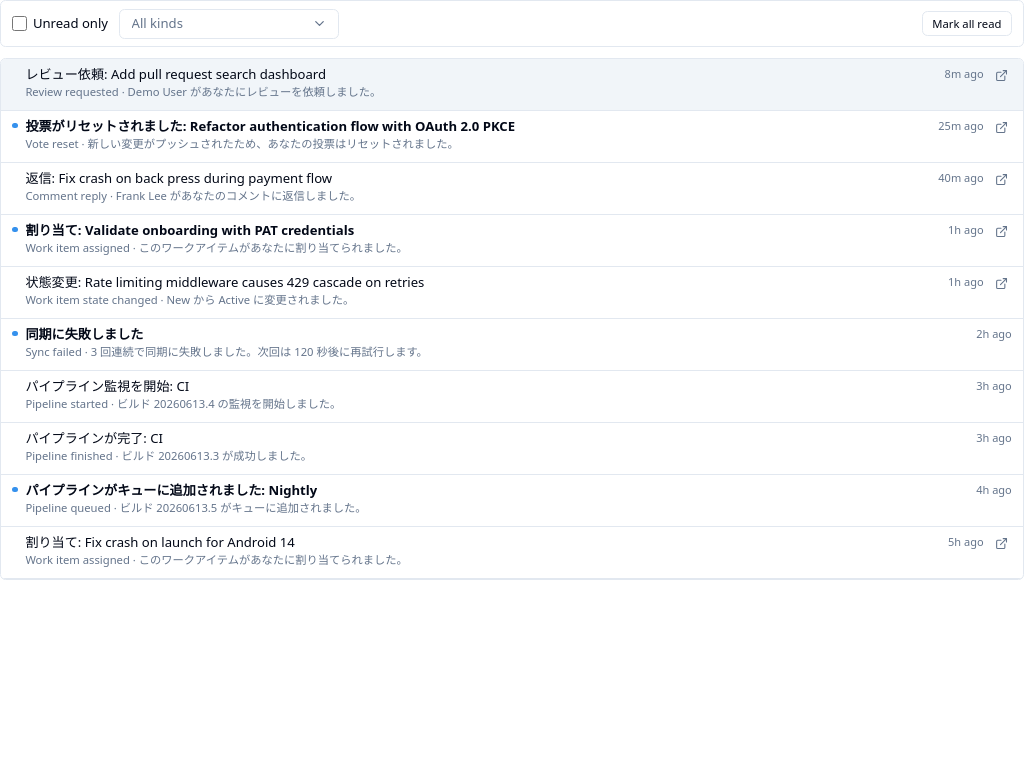
Scenario: NotificationsView › marks the selected row read with r without leaving the view
Click the checkbox labelled "Unread only" at (20, 24), box [12,16,27,31]
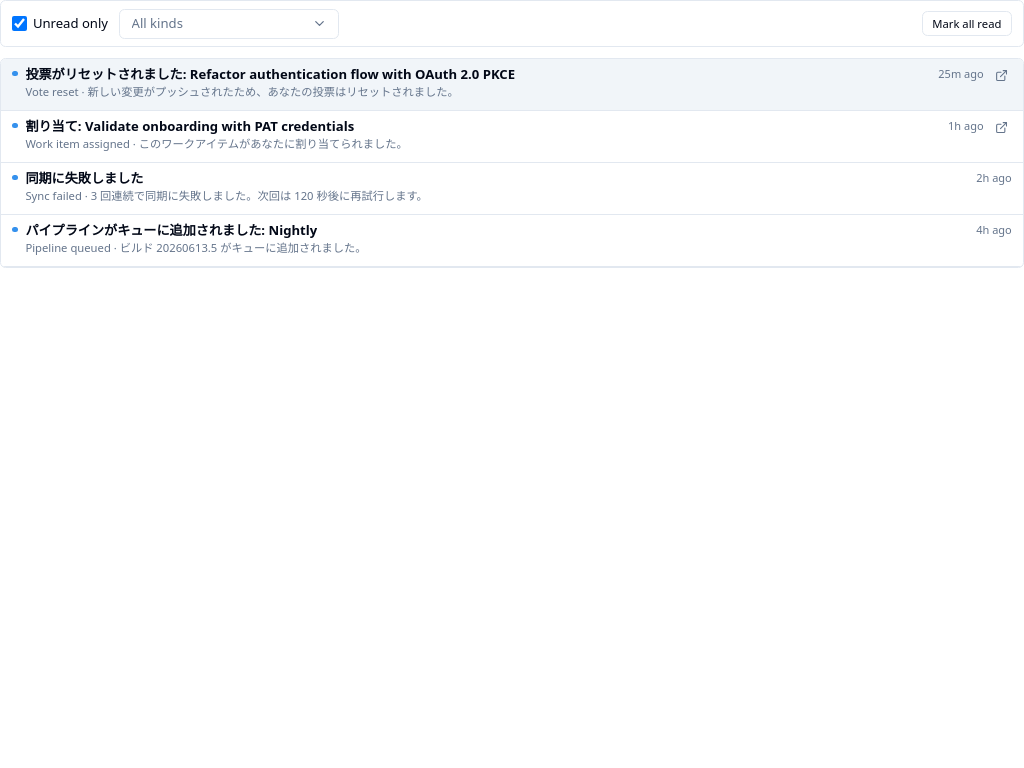
Press r in the 1st row, box [1,59,1023,111]
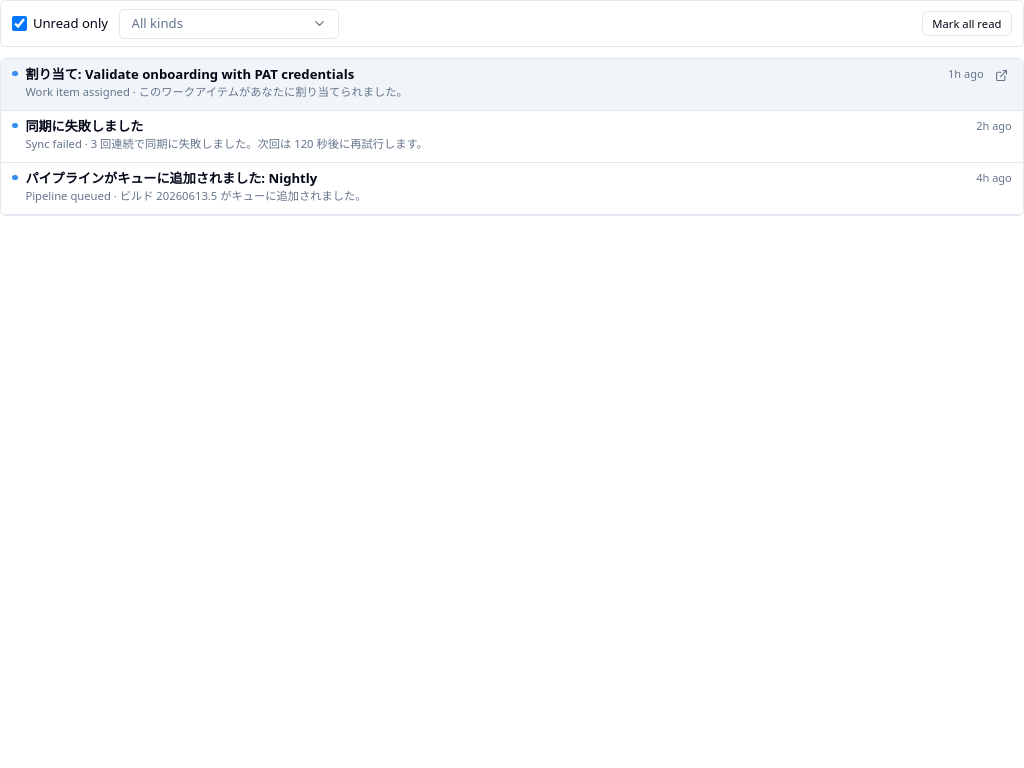
Expected: the number of rows is 3, [1,59,1023,111]; [1,111,1023,163]; [1,163,1023,215]
